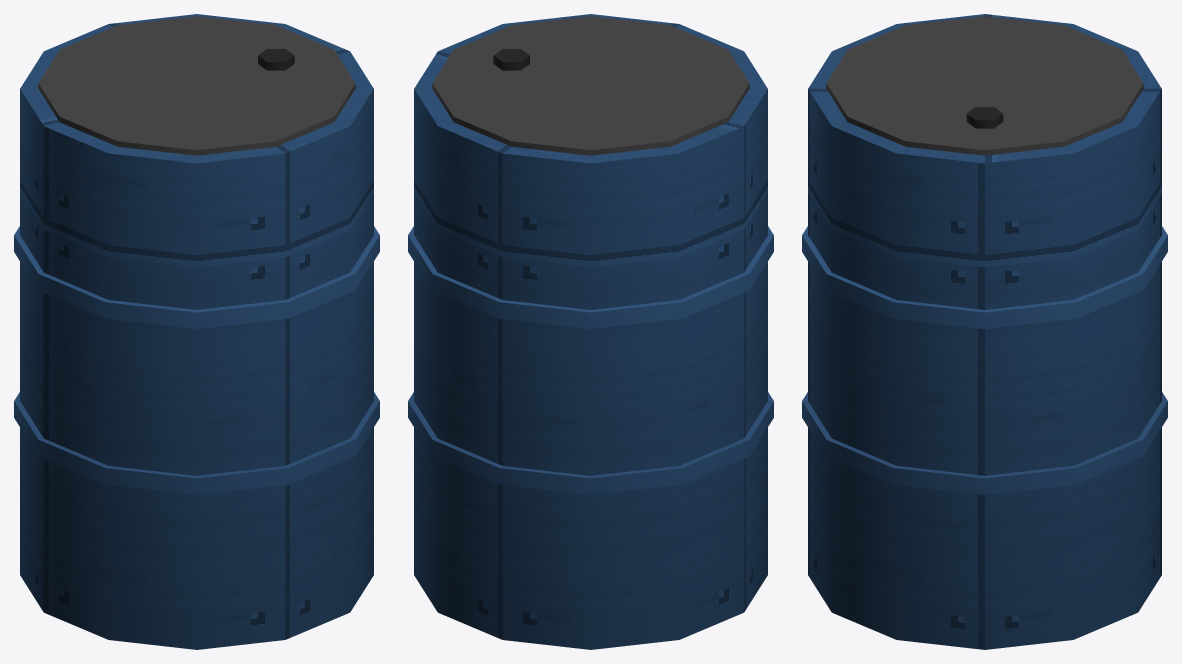
The model's file is tambor.glb.
The picture shows the model from 3 angles, left to right: view 1: azimuth 30°, elevation 25°; view 2: azimuth 150°, elevation 25°; view 3: azimuth 270°, elevation 25°; orthographic projection.
Visible parts, largest first — view 1: tambor_metal, tambor; view 2: tambor_metal, tambor; view 3: tambor_metal, tambor.
Part boxes in pixels (box(x1,y1,x2,y2)): tambor_metal: box(20, 14, 373, 649); tambor: box(14, 16, 379, 494); tambor_metal: box(414, 14, 767, 649); tambor: box(408, 16, 773, 494); tambor_metal: box(808, 14, 1161, 649); tambor: box(802, 16, 1167, 494).
Bounding box in the file's own units: 0.6 × 0.905 × 0.6.
2 materials, 1 textured.
